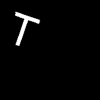half_double_crochet: (15, 12, 38, 44)
